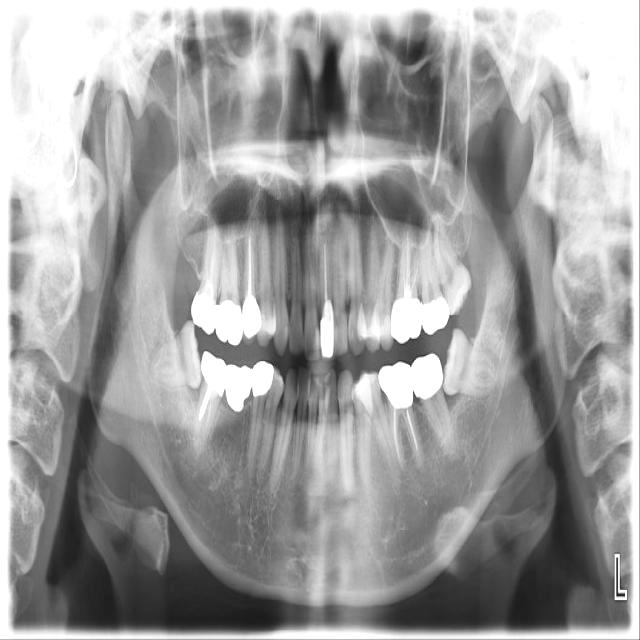Crown: (378, 361, 414, 409), (411, 353, 443, 401), (390, 297, 422, 344), (225, 363, 253, 413), (215, 299, 244, 347), (191, 285, 217, 336), (201, 350, 228, 399), (420, 293, 449, 335), (241, 295, 261, 347), (320, 303, 337, 361), (252, 360, 274, 398)
Periapical lesion: (438, 439, 465, 471)
Root Canal Treatment: (404, 232, 412, 298), (406, 409, 417, 451), (209, 227, 215, 282), (207, 392, 217, 425), (394, 408, 400, 460), (248, 236, 253, 297), (203, 233, 209, 280), (324, 242, 328, 303), (412, 264, 418, 288)
impacted tooth: (443, 327, 503, 397), (149, 319, 201, 387)
